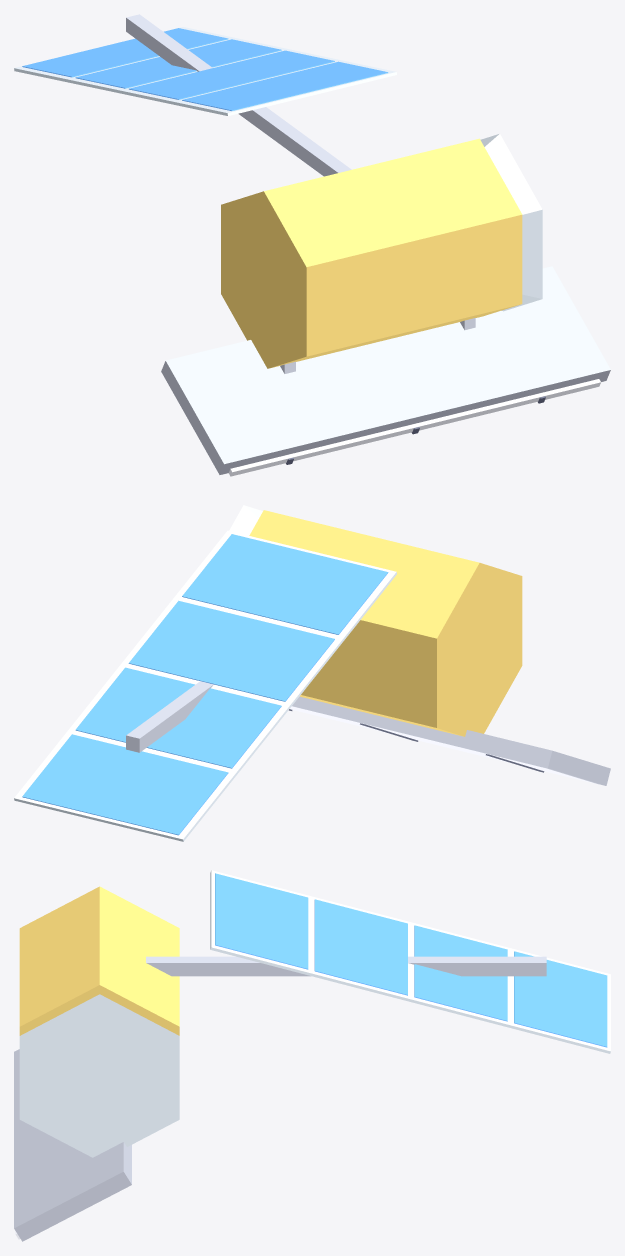
Rendered from kompsat_sar.glb.
The picture shows the model from 3 angles, top to bottom: view 1: azimuth 30°, elevation 25°; view 2: azimuth 150°, elevation 25°; view 3: azimuth 270°, elevation 25°; orthographic projection. The views are drawn at different scales.
Parts seen in each view (by area): view 1: Spacecraft; view 2: Spacecraft; view 3: Spacecraft.
Boxes of the visible parts, bbox=[...] form: Spacecraft: bbox=[14, 14, 610, 476]; Spacecraft: bbox=[14, 505, 610, 841]; Spacecraft: bbox=[14, 870, 610, 1241].
Bounding box in the file's own units: 8.6 × 5.64 × 12.29.
